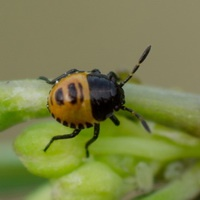insect: (39, 45, 150, 156)
